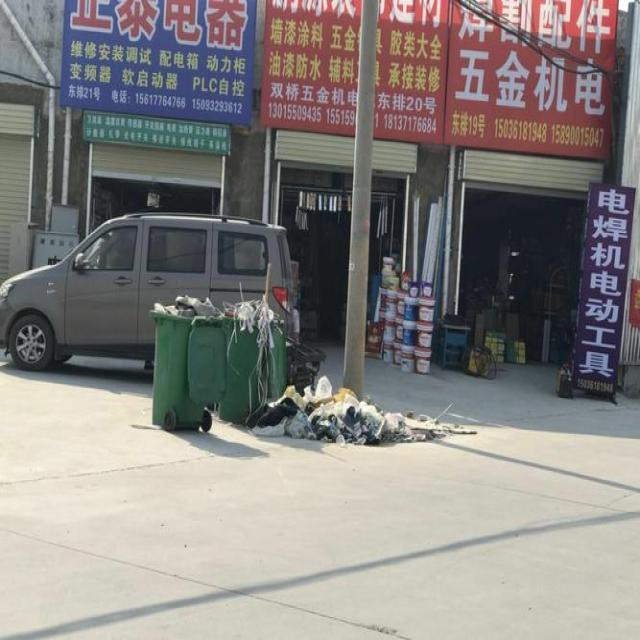garbage: (246, 374, 474, 443)
overflow: (148, 290, 224, 428), (221, 298, 283, 421)
